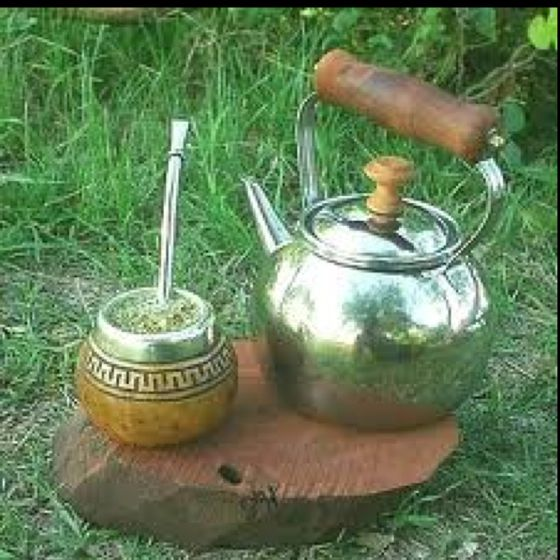guampa: (80, 104, 242, 453)
